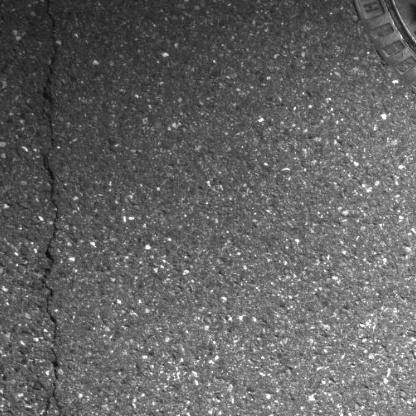Cracks: (36, 0, 67, 416)
